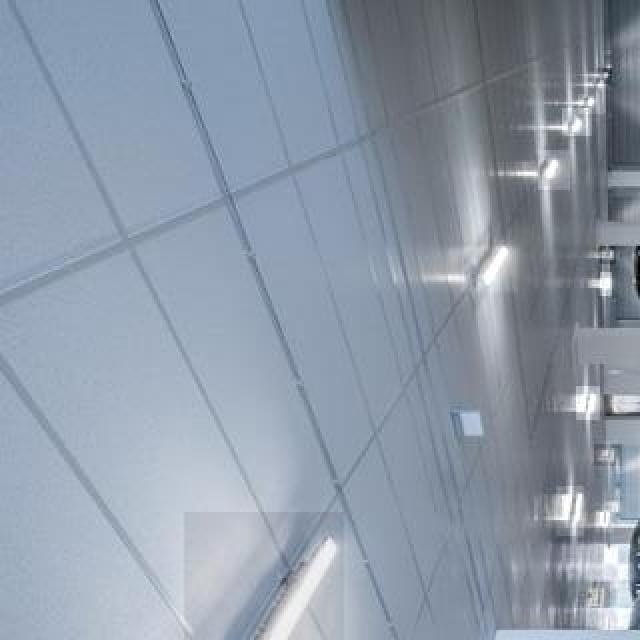fluorescent tube: (214, 526, 340, 640), (460, 236, 524, 304), (502, 153, 571, 207), (560, 467, 593, 553), (551, 386, 611, 429), (554, 468, 586, 548), (526, 158, 578, 187)
